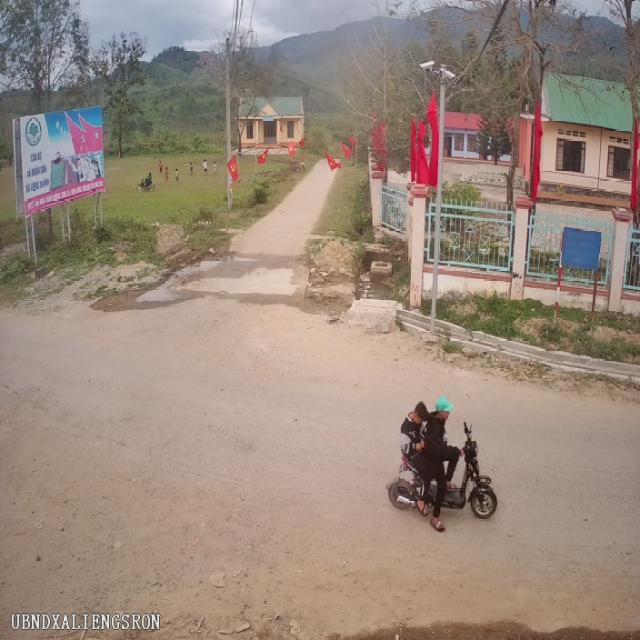without_helmet: (433, 396, 456, 429), (409, 398, 429, 432)
